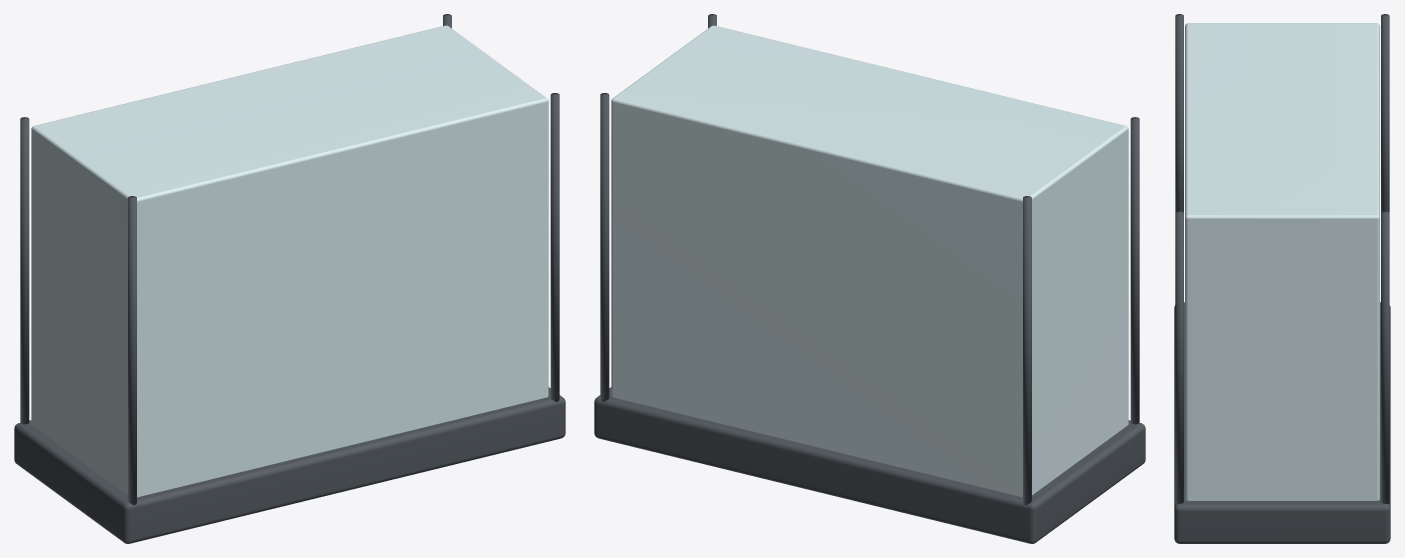
The model's file is atelier-aquarium.glb.
The picture shows the model from 3 angles, left to right: view 1: azimuth 30°, elevation 25°; view 2: azimuth 150°, elevation 25°; view 3: azimuth 270°, elevation 25°; orthographic projection. The views are drawn at different scales.
Visible parts, largest first — view 1: glass.022, metal.205; view 2: glass.022, metal.205; view 3: glass.022, metal.205.
Part boxes in pixels (x1=…): glass.022: x1=31, y1=25, x2=548, y2=497; metal.205: x1=14, y1=14, x2=565, y2=543; glass.022: x1=611, y1=25, x2=1128, y2=497; metal.205: x1=594, y1=14, x2=1145, y2=543; glass.022: x1=1185, y1=23, x2=1379, y2=500; metal.205: x1=1174, y1=14, x2=1390, y2=543.
Bounding box in the file's own units: 0.9 × 0.67 × 0.4.
